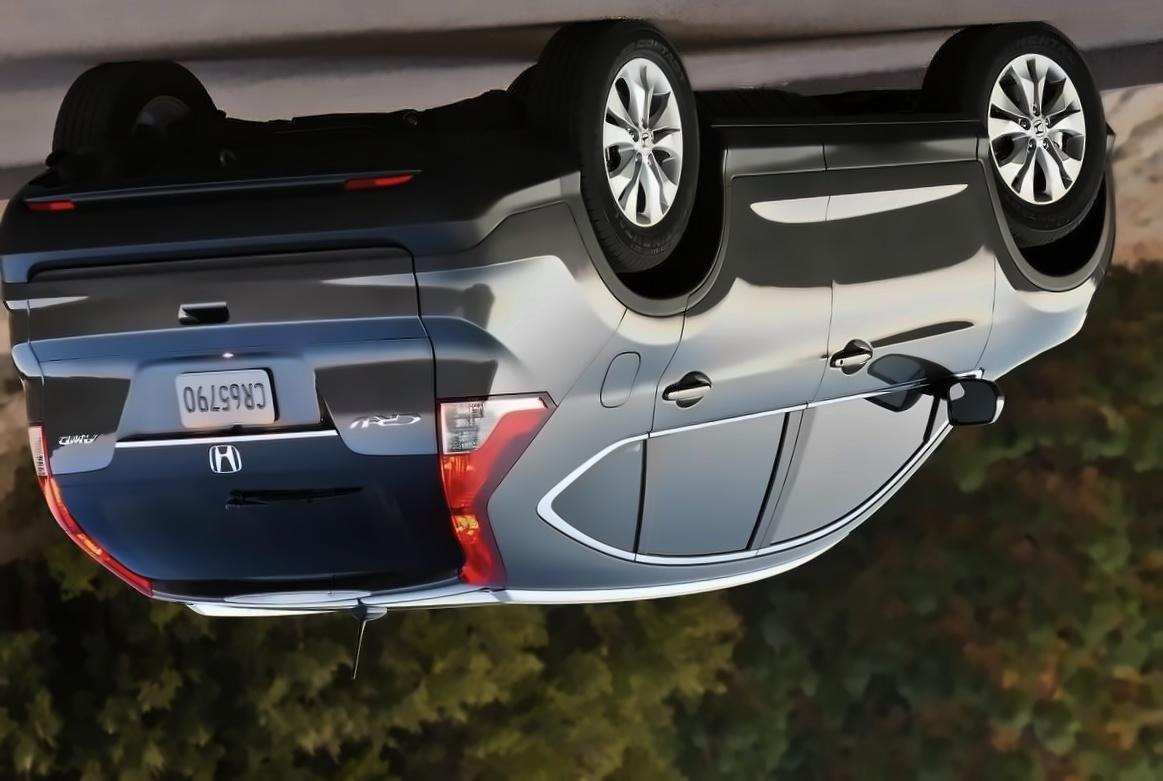Car boot: (11, 229, 461, 618)
Fender - -F-L-: (969, 159, 1138, 393)
Fender - -R-L-: (478, 265, 699, 608)
Passenger-s door - -F-L-: (744, 78, 999, 605)
Passenger-s door - -R-L-: (609, 75, 865, 606)
Rear bumper: (0, 102, 586, 349)
Rear light - -L-: (429, 391, 559, 590)
Rear light - -R-: (25, 425, 153, 602)
Side bumper - -L-: (696, 76, 1004, 233)
Side mirror - -L-: (935, 365, 1005, 434)
